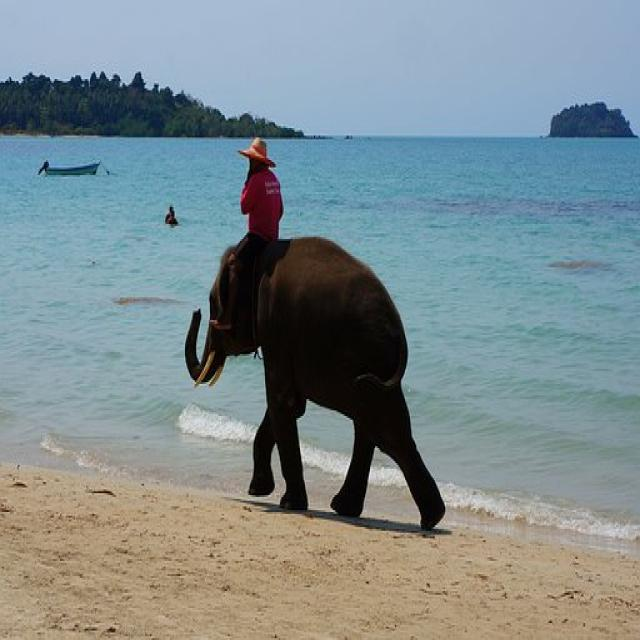Elephant: (177, 230, 461, 565)
